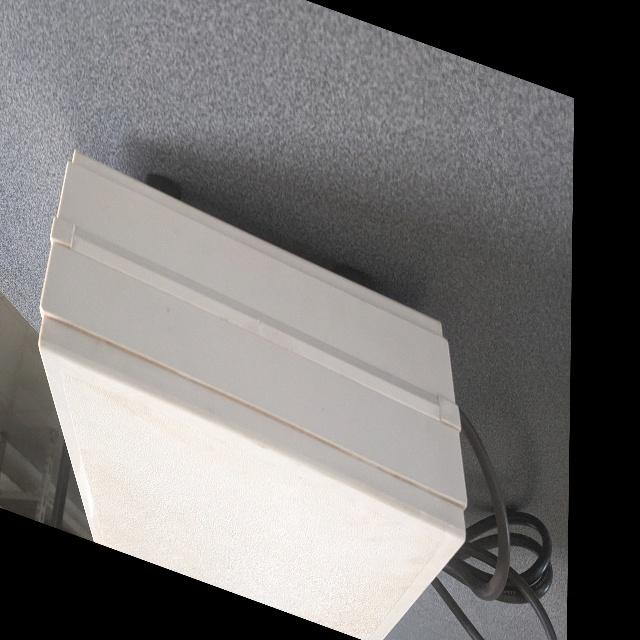Freefall Digital Timer: (30, 111, 477, 640)
